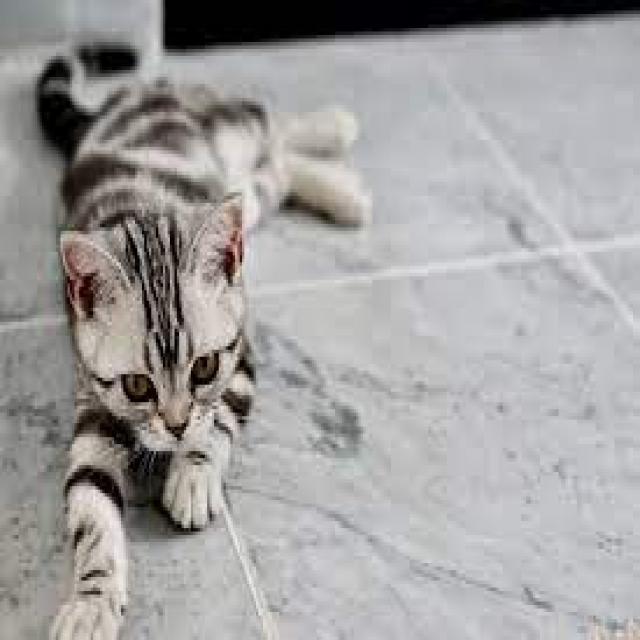cat-face: (64, 162, 320, 512)
